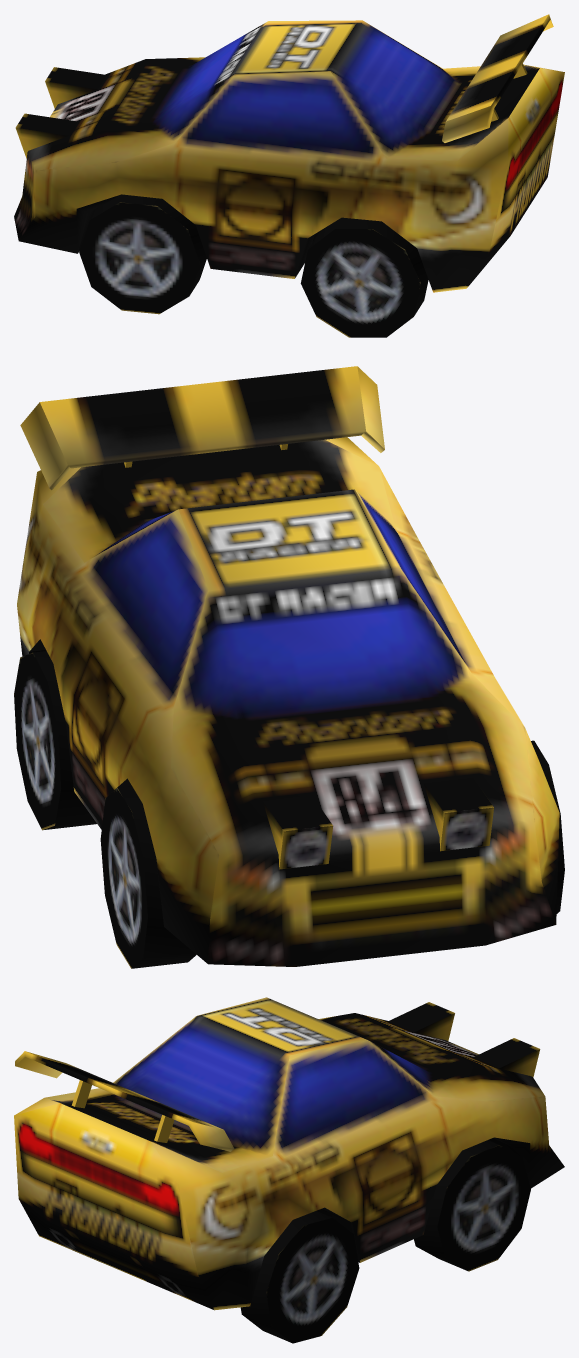
The model's file is static.ico.obj.
3 views of the same model, one above another, from view 1: azimuth 30°, elevation 25°; view 2: azimuth 150°, elevation 25°; view 3: azimuth 270°, elevation 25° (orthographic). The views are drawn at different scales.
Size of the model in its own units: 4.72 by 2.33 by 4.73.
Materials: 1 (1 with a texture image).
